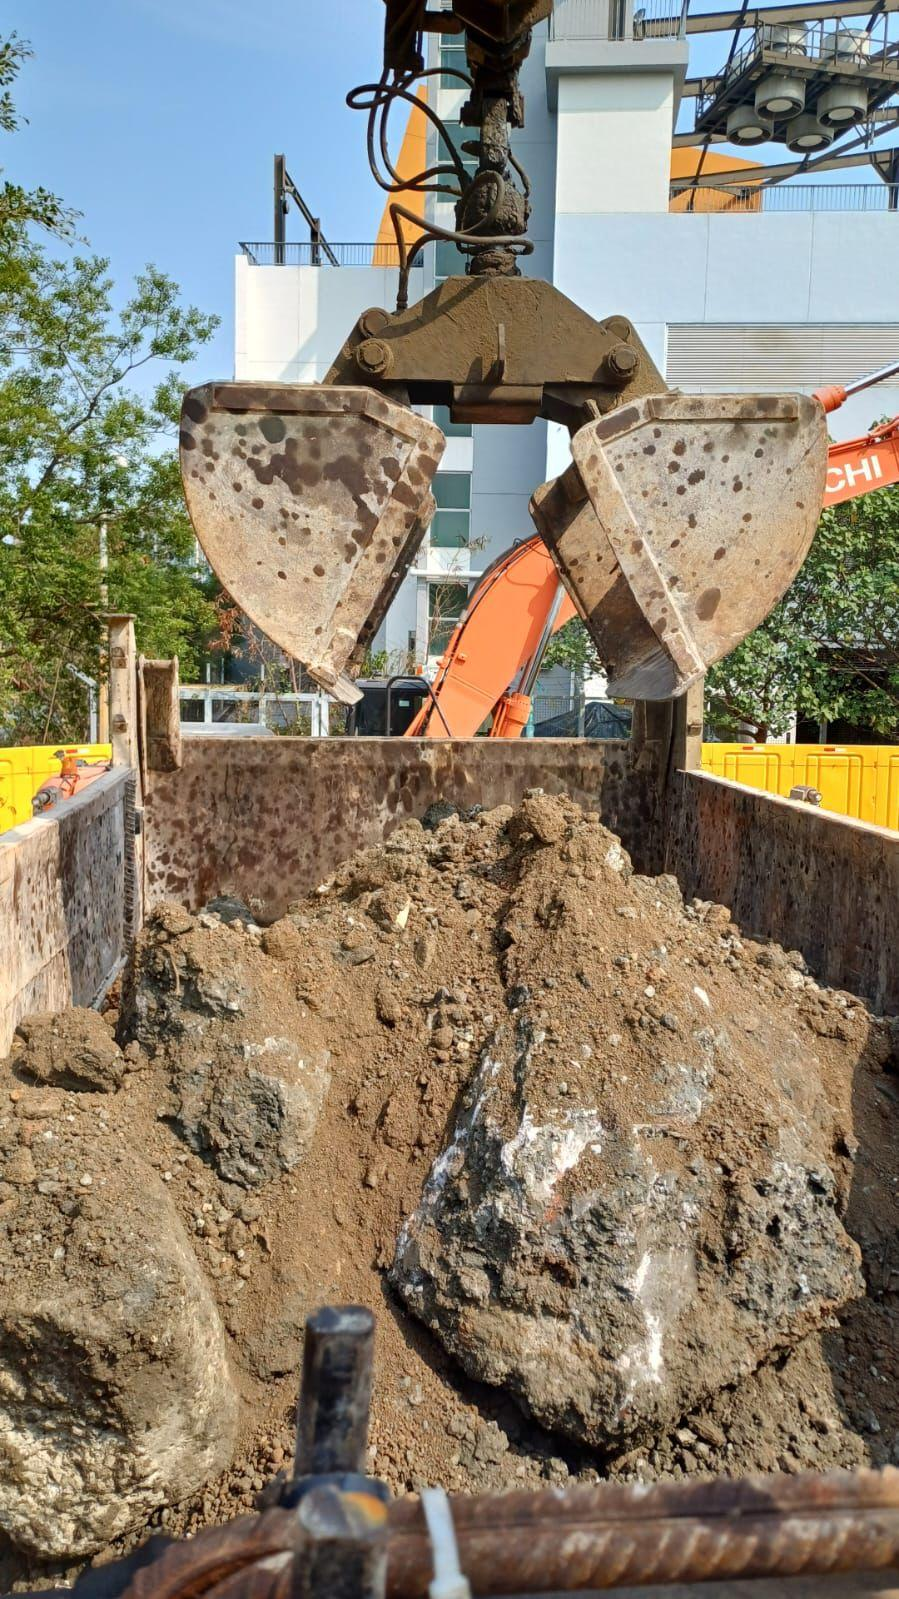dry: (18, 815, 865, 1547)
